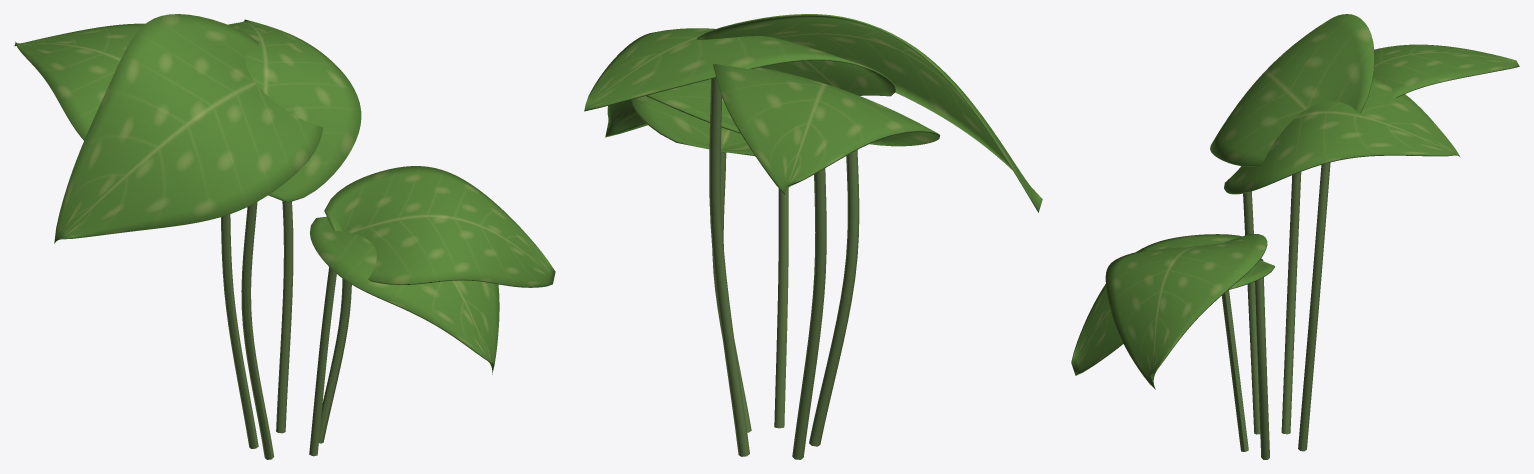
File: pothos-stage-1-v06.glb
3 views of the same model, side by side, from view 1: azimuth 30°, elevation 25°; view 2: azimuth 150°, elevation 25°; view 3: azimuth 270°, elevation 25° (orthographic). The views are drawn at different scales.
Parts seen in each view (by area): view 1: V06 pothos-stage-1 Leaf_2, V06 pothos-stage-1 Leaf_3, V06 pothos-stage-1 Leaf_1, V06 pothos-stage-1 Leaf_0, V06 pothos-stage-1 Leaf_4, V06 pothos-stage-1 Petiole_1, V06 pothos-stage-1 Petiole_4, V06 pothos-stage-1 Petiole_2, V06 pothos-stage-1 Petiole_3, V06 pothos-stage-1 Petiole_0; view 2: V06 pothos-stage-1 Leaf_4, V06 pothos-stage-1 Leaf_1, V06 pothos-stage-1 Leaf_2, V06 pothos-stage-1 Petiole_2, V06 pothos-stage-1 Petiole_1, V06 pothos-stage-1 Petiole_4, V06 pothos-stage-1 Leaf_0, V06 pothos-stage-1 Leaf_3, V06 pothos-stage-1 Petiole_3, V06 pothos-stage-1 Petiole_0; view 3: V06 pothos-stage-1 Leaf_3, V06 pothos-stage-1 Leaf_2, V06 pothos-stage-1 Leaf_1, V06 pothos-stage-1 Leaf_4, V06 pothos-stage-1 Leaf_0, V06 pothos-stage-1 Petiole_2, V06 pothos-stage-1 Petiole_4, V06 pothos-stage-1 Petiole_0, V06 pothos-stage-1 Petiole_1, V06 pothos-stage-1 Petiole_3.
Boxes of the visible parts, left/top/right/bottom form: V06 pothos-stage-1 Leaf_2: left=54, top=14, right=322, bottom=243; V06 pothos-stage-1 Leaf_3: left=324, top=166, right=555, bottom=287; V06 pothos-stage-1 Leaf_1: left=228, top=19, right=361, bottom=202; V06 pothos-stage-1 Leaf_0: left=310, top=216, right=499, bottom=374; V06 pothos-stage-1 Leaf_4: left=14, top=23, right=145, bottom=140; V06 pothos-stage-1 Petiole_1: left=241, top=202, right=274, bottom=459; V06 pothos-stage-1 Petiole_4: left=221, top=214, right=258, bottom=448; V06 pothos-stage-1 Petiole_2: left=276, top=201, right=293, bottom=433; V06 pothos-stage-1 Petiole_3: left=309, top=267, right=336, bottom=456; V06 pothos-stage-1 Petiole_0: left=319, top=278, right=351, bottom=443; V06 pothos-stage-1 Leaf_4: left=713, top=63, right=940, bottom=194; V06 pothos-stage-1 Leaf_1: left=584, top=28, right=895, bottom=111; V06 pothos-stage-1 Leaf_2: left=696, top=14, right=1042, bottom=212; V06 pothos-stage-1 Petiole_2: left=709, top=78, right=749, bottom=456; V06 pothos-stage-1 Petiole_1: left=809, top=150, right=859, bottom=446; V06 pothos-stage-1 Petiole_4: left=792, top=168, right=826, bottom=459; V06 pothos-stage-1 Leaf_0: left=631, top=96, right=755, bottom=156; V06 pothos-stage-1 Leaf_3: left=605, top=79, right=740, bottom=137; V06 pothos-stage-1 Petiole_3: left=774, top=188, right=788, bottom=428; V06 pothos-stage-1 Petiole_0: left=712, top=152, right=751, bottom=432; V06 pothos-stage-1 Leaf_3: left=1105, top=234, right=1267, bottom=389; V06 pothos-stage-1 Leaf_2: left=1210, top=14, right=1374, bottom=166; V06 pothos-stage-1 Leaf_1: left=1224, top=76, right=1460, bottom=194; V06 pothos-stage-1 Leaf_4: left=1373, top=44, right=1519, bottom=97; V06 pothos-stage-1 Leaf_0: left=1071, top=234, right=1274, bottom=375; V06 pothos-stage-1 Petiole_2: left=1298, top=162, right=1330, bottom=451; V06 pothos-stage-1 Petiole_4: left=1281, top=172, right=1301, bottom=434; V06 pothos-stage-1 Petiole_0: left=1255, top=258, right=1269, bottom=459; V06 pothos-stage-1 Petiole_1: left=1243, top=191, right=1260, bottom=434; V06 pothos-stage-1 Petiole_3: left=1222, top=290, right=1248, bottom=451.
Size of the model in its own units: 1.34 by 1.24 by 1.3.
2 materials, 1 textured.
